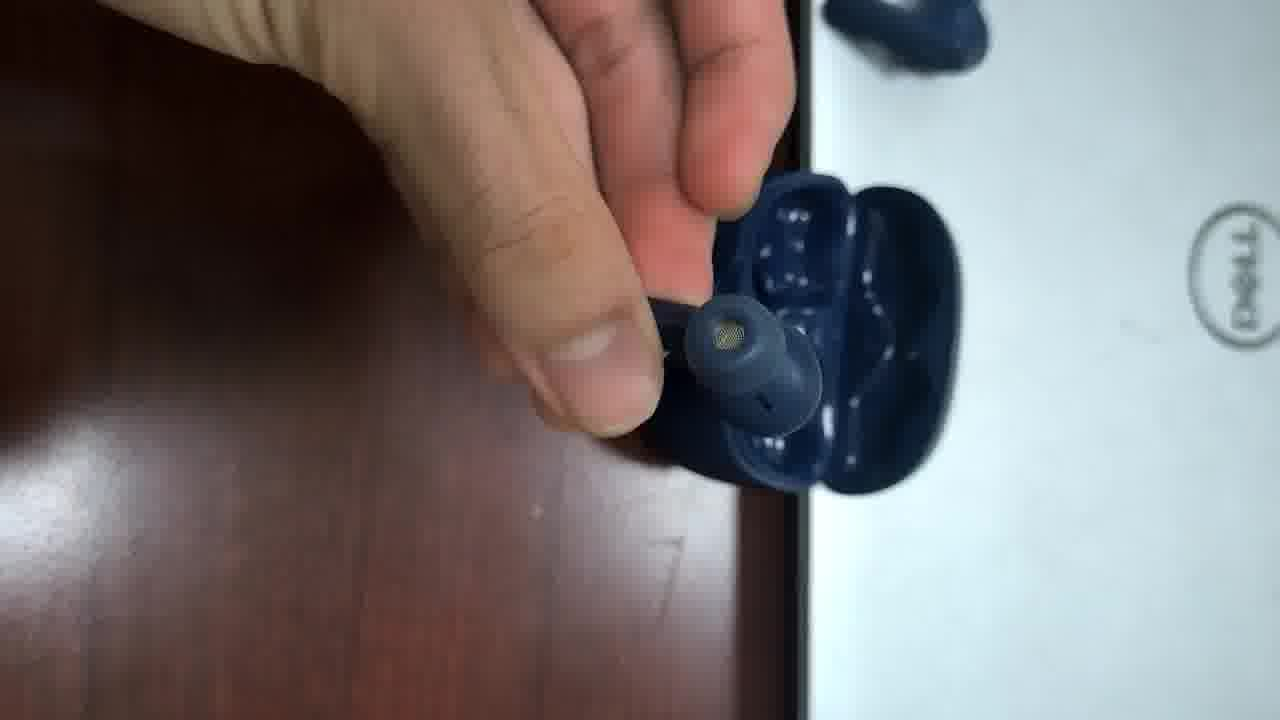Earbud: (657, 294, 822, 436), (823, 0, 989, 70), (672, 337, 673, 338)
